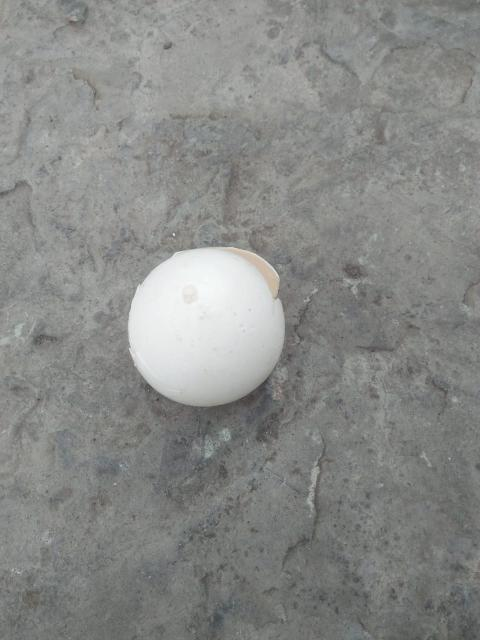Roto: (126, 245, 286, 408)
